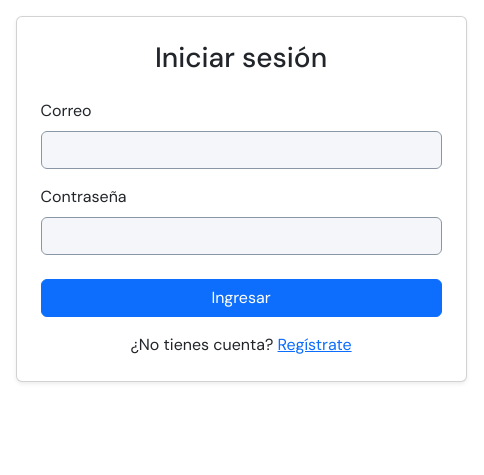
Login › muestra un error con credenciales incorrectas
In the field labelled "Correo": (241, 150) x1=40 y1=131 x2=442 y2=169, type "pedro@correo.cl"
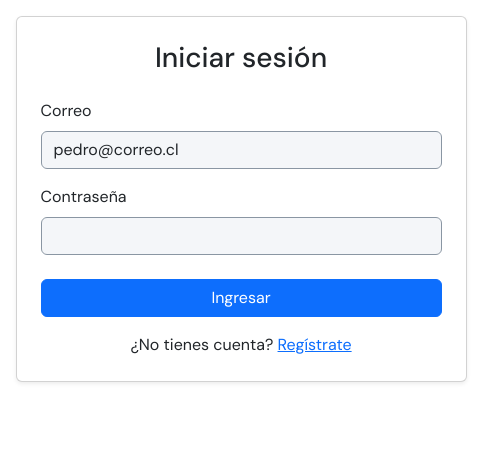
In the password field labelled "Contraseña": (241, 236) x1=40 y1=217 x2=442 y2=255, type "incorrecta"
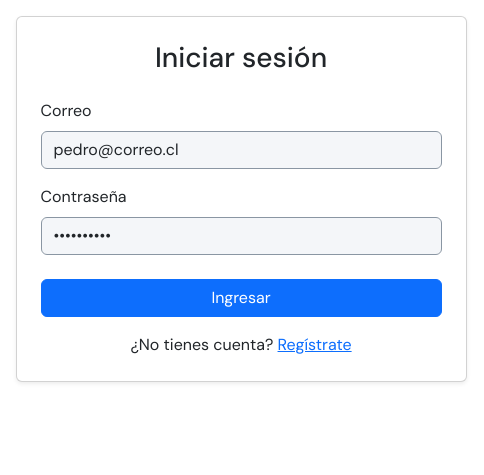
Click the button "Ingresar": (241, 298) x1=40 y1=279 x2=442 y2=317
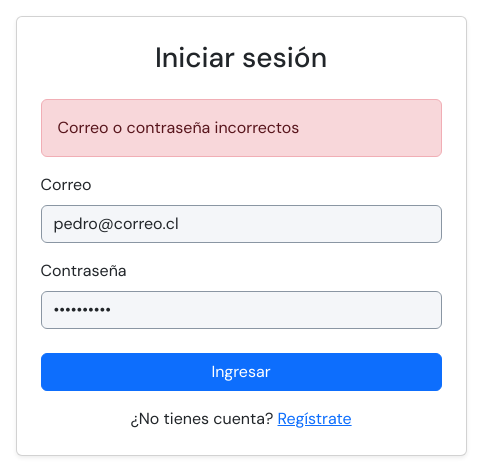
Now the message reads "Correo o contraseña incorrectos", box x1=58 y1=117 x2=299 y2=138
